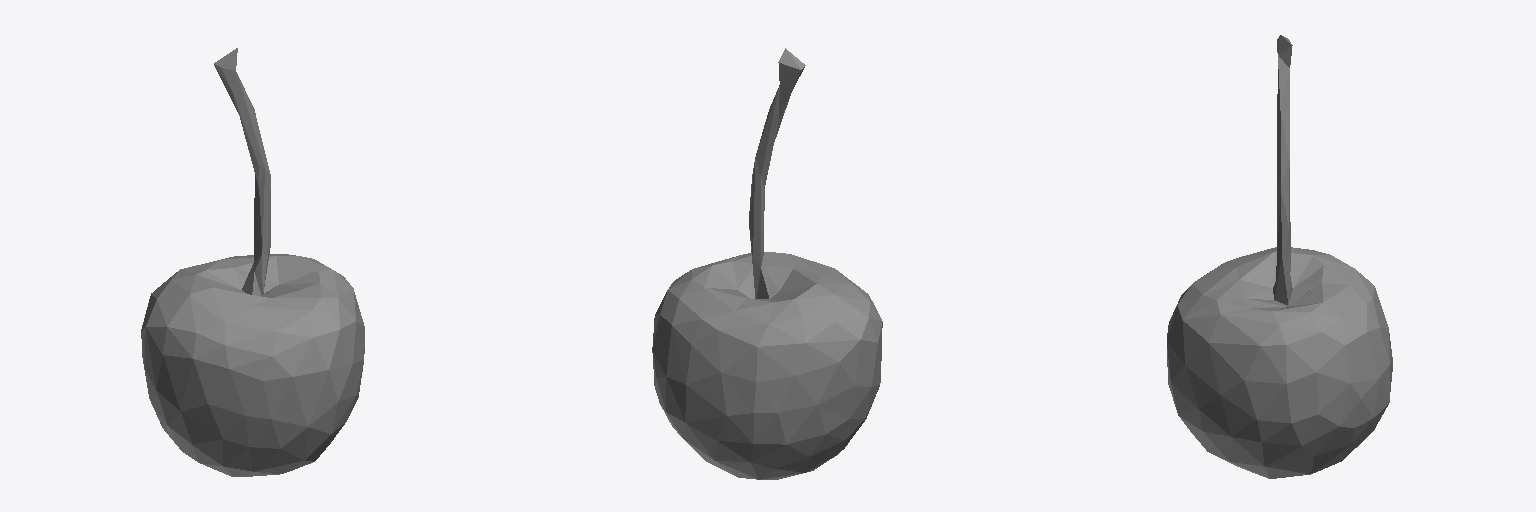
The model's file is strawberryO.obj.
3 views of the same model, side by side, from view 1: azimuth 30°, elevation 25°; view 2: azimuth 150°, elevation 25°; view 3: azimuth 270°, elevation 25° (orthographic).
Parts seen in each view (by area): view 1: cherryO.001; view 2: cherryO.001; view 3: cherryO.001.
Boxes of the visible parts, <box> form: cherryO.001: <box>141,48,364,476</box>; cherryO.001: <box>652,48,882,479</box>; cherryO.001: <box>1167,35,1392,478</box>.
Size of the model in its own units: 0.861 by 1.72 by 0.831.